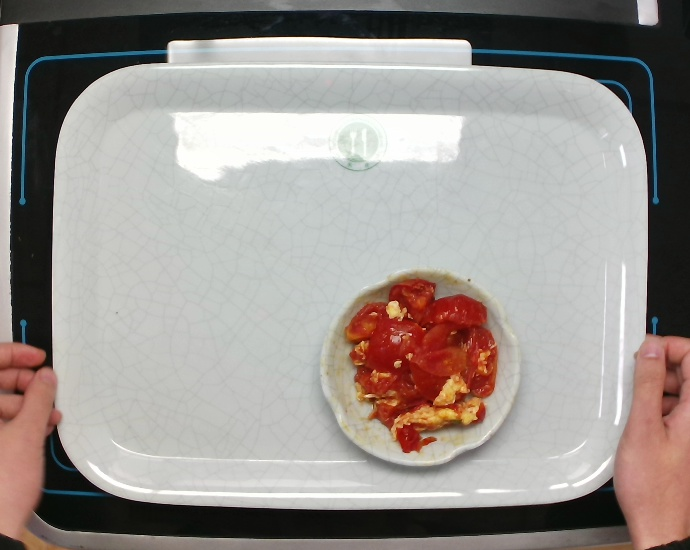JYsf-Ao_Yuan_Wan: (316, 260, 529, 473)
